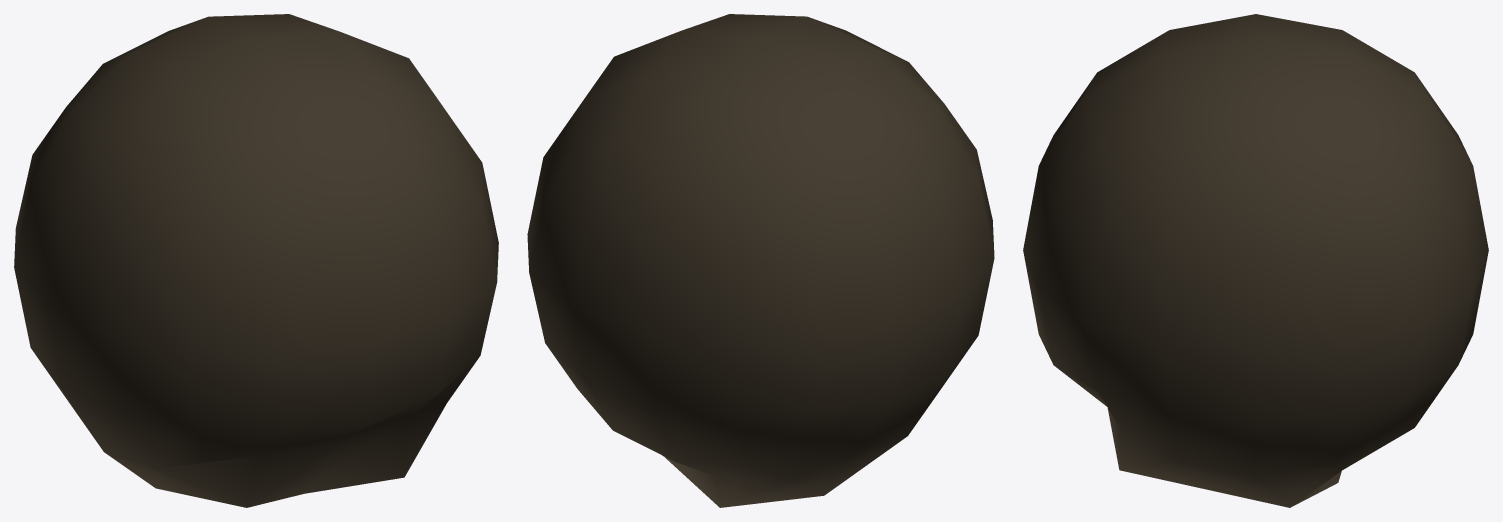
The model's file is boule.fbx.
3 renders of one model, left to right at view 1: azimuth 30°, elevation 25°; view 2: azimuth 150°, elevation 25°; view 3: azimuth 270°, elevation 25°, orthographic. The views are drawn at different scales.
Parts seen in each view (by area): view 1: boule; view 2: boule; view 3: boule.
Boxes of the visible parts, x1,y1,x2,y2 form: boule: (14, 14, 498, 507); boule: (527, 14, 994, 507); boule: (1023, 14, 1488, 507).
Size of the model in its own units: 45.01 by 47.32 by 45.01.
